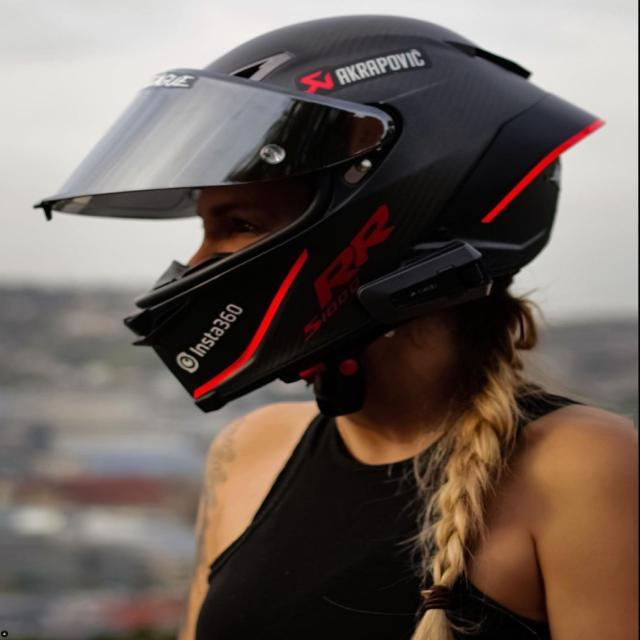helmet: (27, 6, 623, 421)
